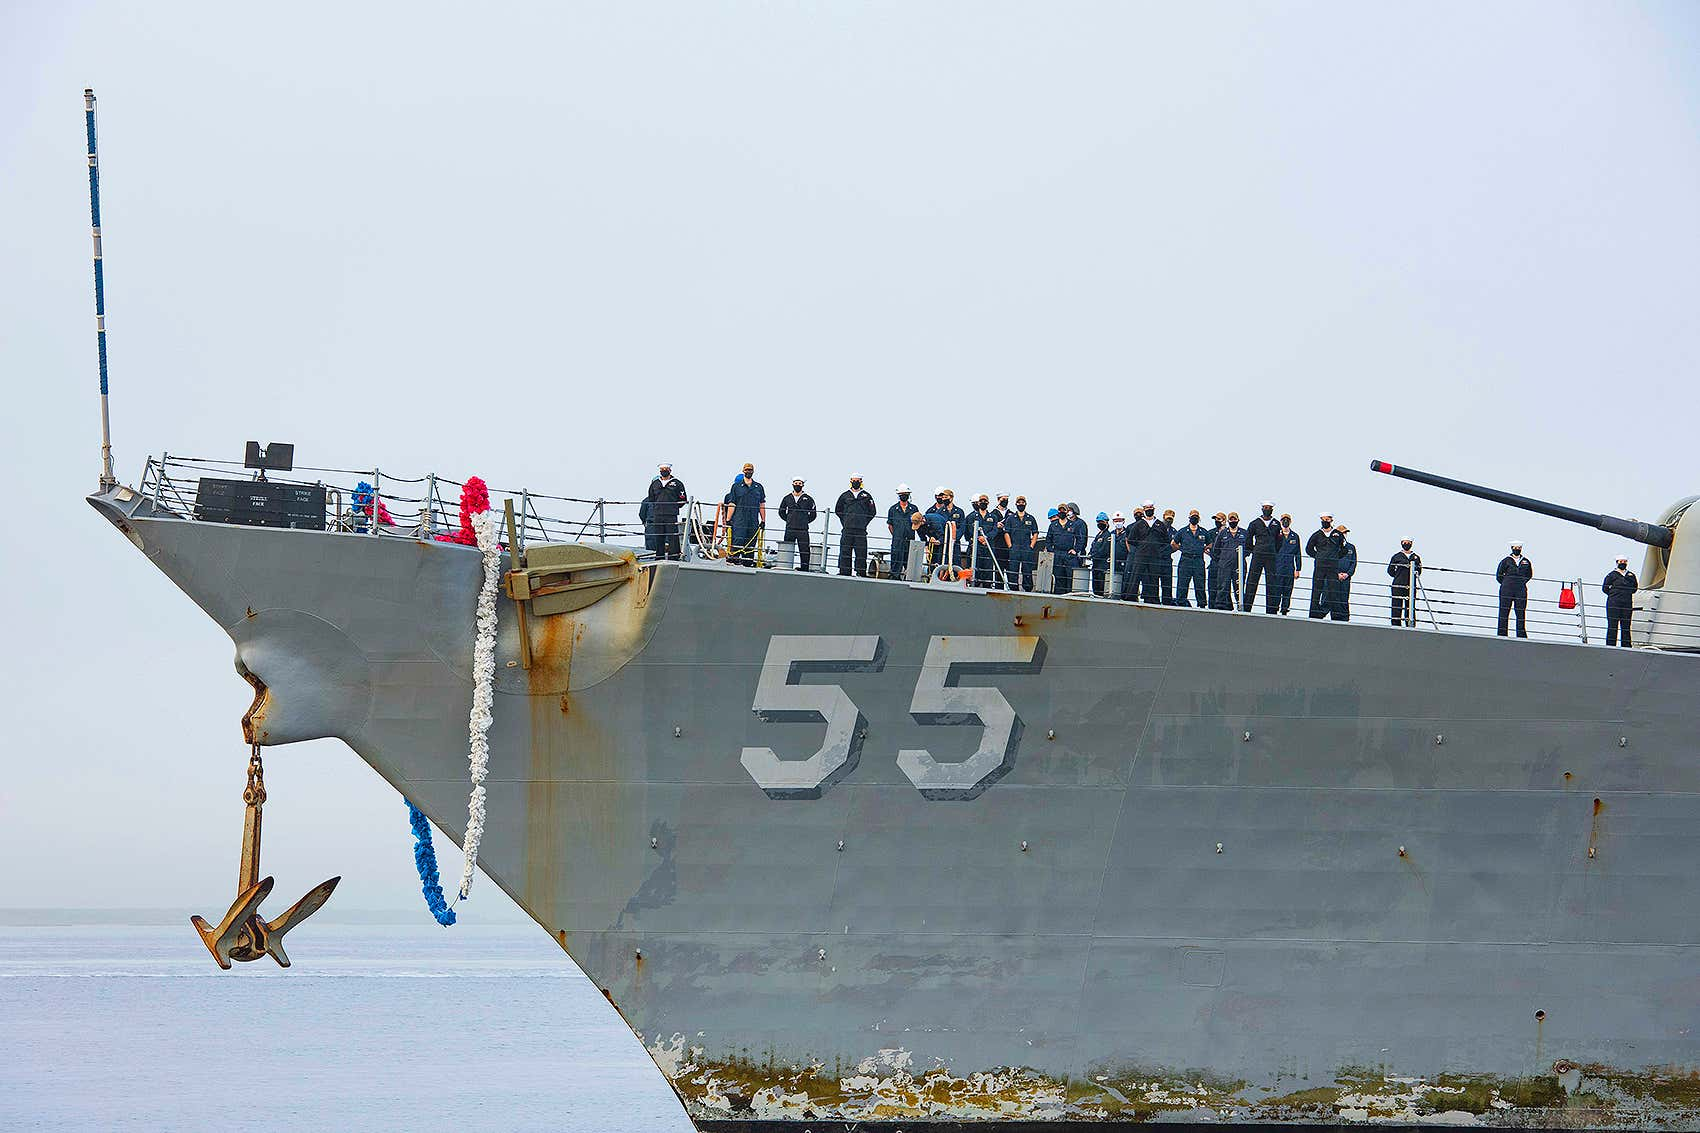rust: (643, 1033, 1684, 1133), (504, 563, 578, 960), (1553, 766, 1625, 870), (977, 589, 1084, 641), (233, 645, 276, 752)
